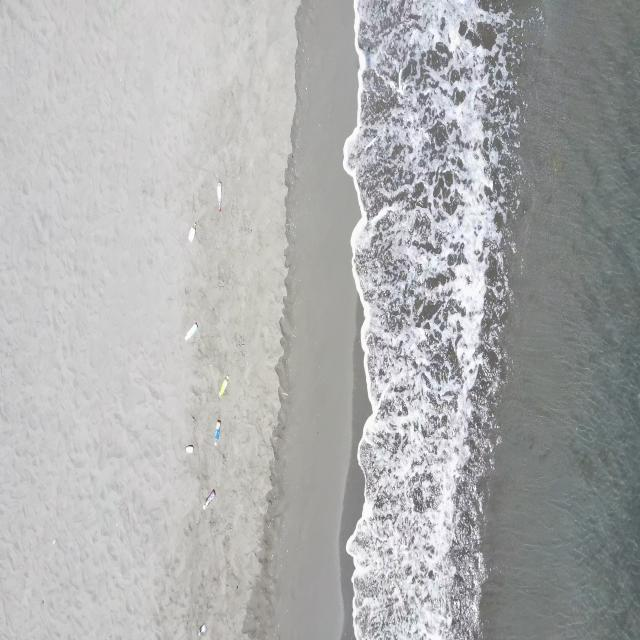plastic-bottle: (182, 321, 199, 342), (218, 374, 230, 399), (202, 490, 216, 510), (216, 180, 224, 213), (214, 420, 221, 446), (187, 224, 197, 242), (197, 623, 206, 638), (184, 445, 195, 455)
